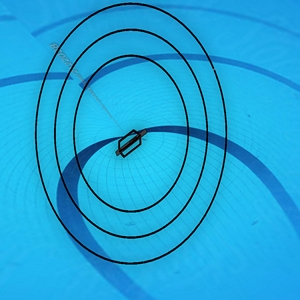circle: (34, 1, 230, 278)
submarine: (117, 127, 150, 156)
